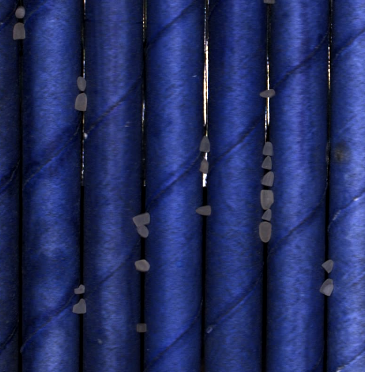broken_grain: (130, 210, 152, 228), (258, 188, 276, 210), (72, 91, 89, 113), (258, 221, 273, 245), (12, 22, 28, 44), (72, 297, 89, 317), (196, 156, 210, 178), (261, 170, 276, 190), (319, 257, 336, 274), (133, 258, 152, 273), (196, 203, 215, 218), (260, 138, 275, 156), (199, 134, 211, 155), (260, 155, 273, 173), (136, 224, 151, 239), (14, 5, 27, 21), (259, 87, 276, 99), (76, 74, 87, 92), (73, 283, 86, 296), (261, 209, 273, 221)
milky_broken_grain: (318, 276, 335, 299)
